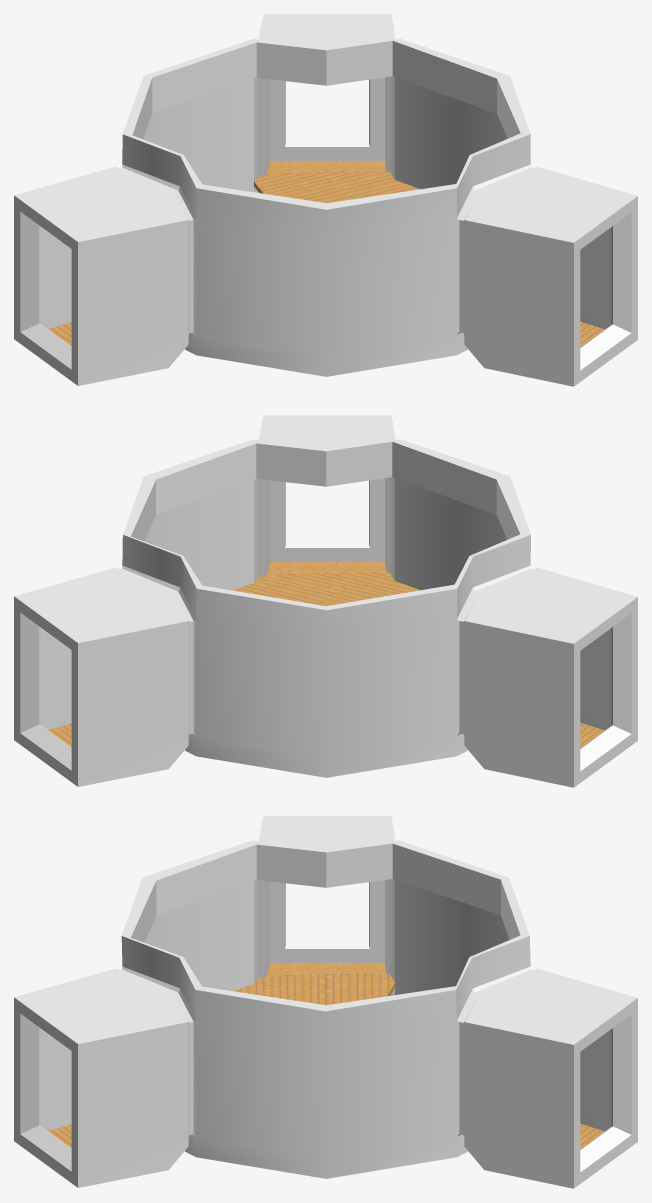
Rendered from block-chain-floor-art.glb.
3 views of the same model, one above another, from view 1: azimuth 30°, elevation 25°; view 2: azimuth 150°, elevation 25°; view 3: azimuth 270°, elevation 25° (orthographic).
Parts seen in each view (by area): view 1: BlockChain_Floor_Art; view 2: BlockChain_Floor_Art; view 3: BlockChain_Floor_Art.
Boxes of the visible parts, bbox=[...] form: BlockChain_Floor_Art: bbox=[14, 14, 637, 386]; BlockChain_Floor_Art: bbox=[14, 415, 637, 787]; BlockChain_Floor_Art: bbox=[14, 816, 637, 1188].
Size of the model in its own units: 13.29 by 4.73 by 15.33.
2 materials, 2 textured.
